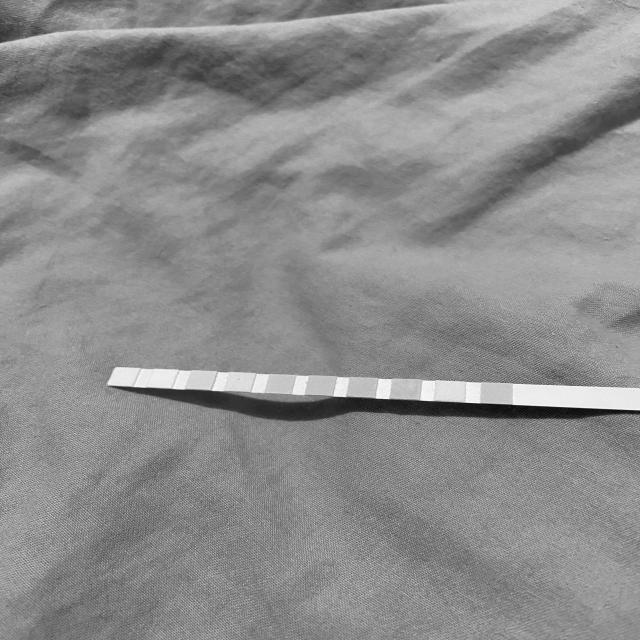Bilirubin: (436, 382, 463, 400)
Blood: (310, 376, 332, 394)
Glucose: (482, 383, 511, 403)
Ketone: (394, 380, 418, 398)
Leukocytes: (114, 369, 132, 386)
Nitrite: (154, 370, 172, 387)
Protein: (230, 373, 250, 391)
SpGravity: (350, 379, 374, 396)
Urobilinogen: (192, 371, 212, 389)
background: (0, 0, 640, 640)
pH: (271, 375, 291, 392)
strip: (107, 366, 640, 412)
